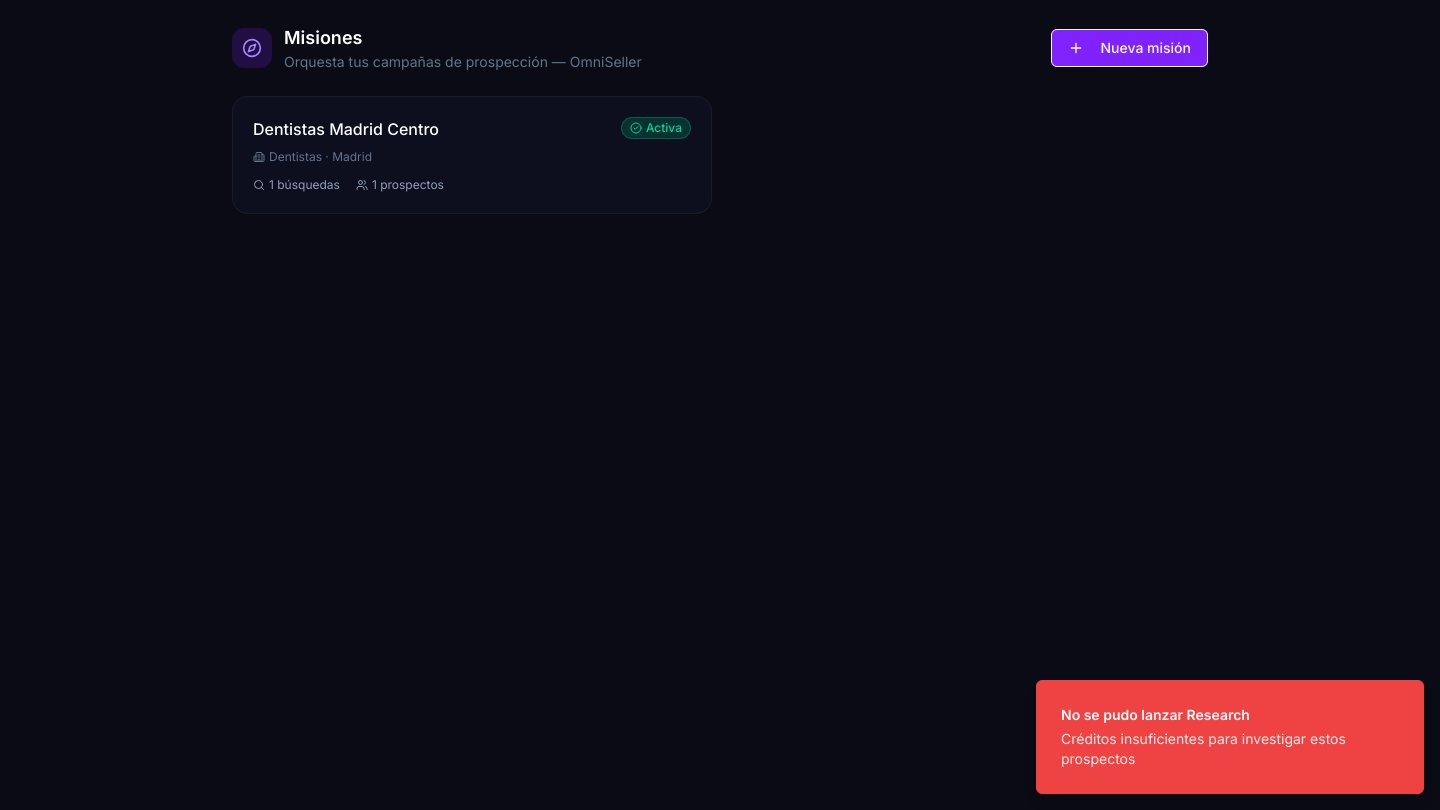
Test case: Contact Finder › 10. ejecuta la búsqueda y muestra los contactos encontrados
Click the text "Dentistas Madrid Centro" at (346, 129), box [253,117,439,141]
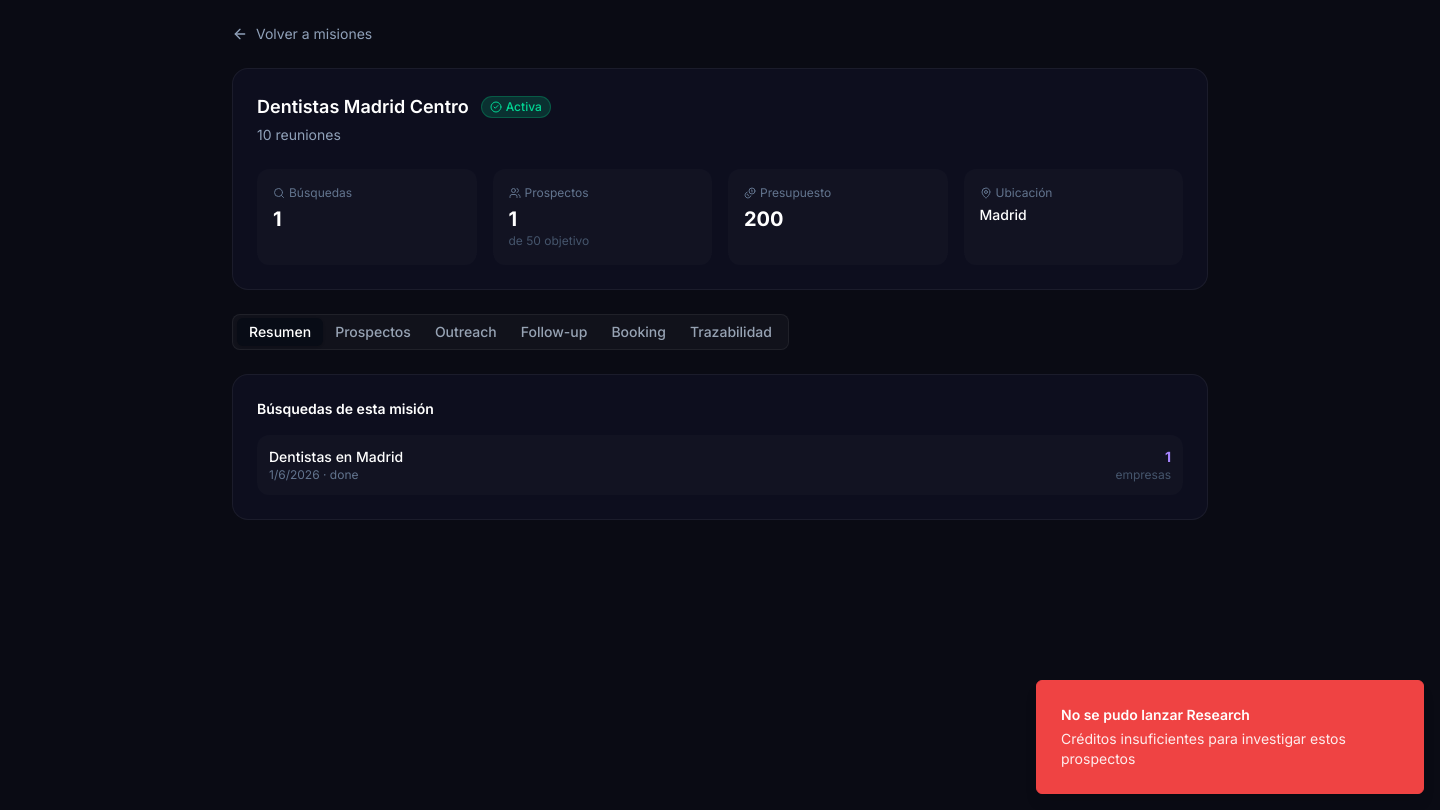
Check: the heading "Búsquedas de esta misión" is shown, box [257,400,434,417]
Press the mouse on the tab with test id "tab-prospectos" at (373, 332), box [323,318,423,346]
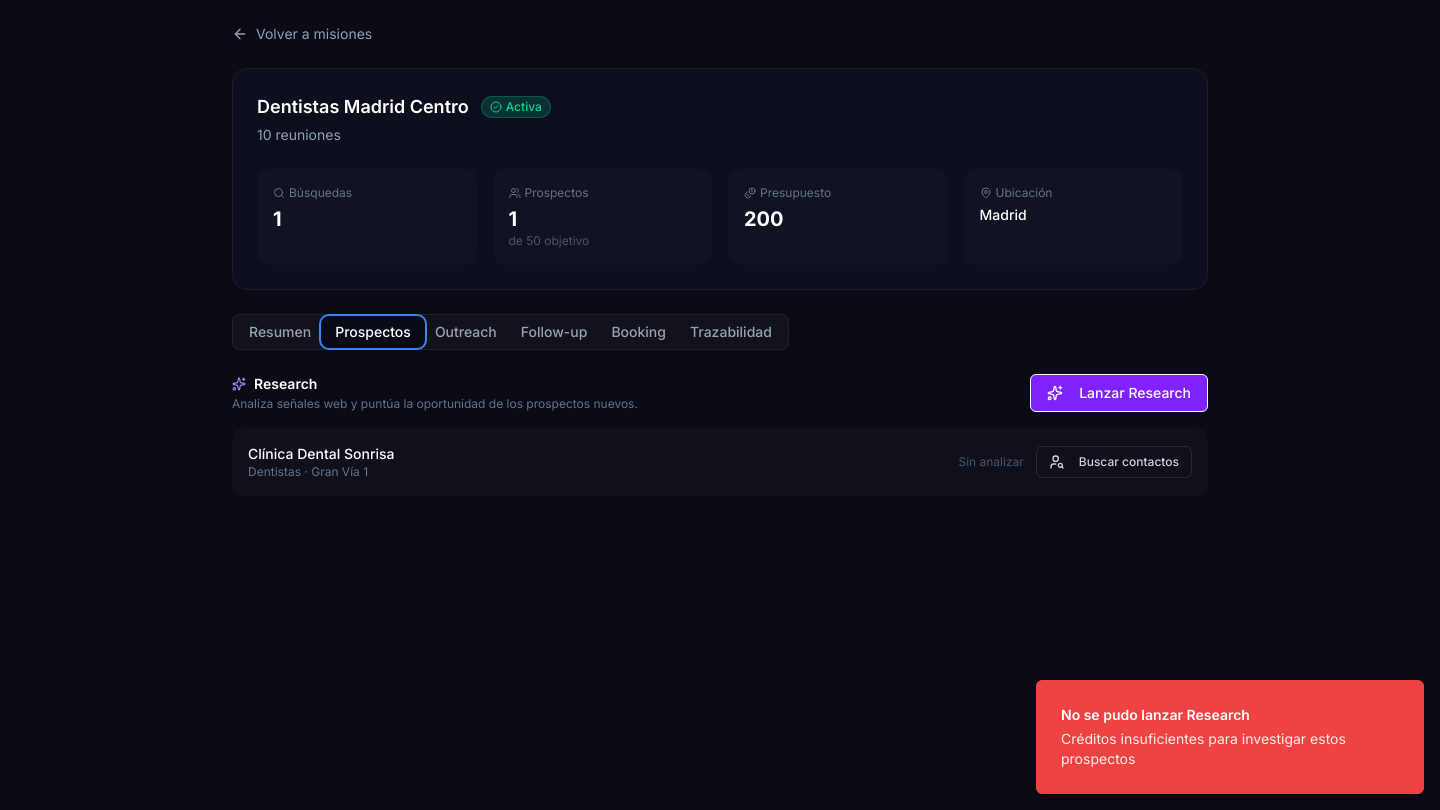
Check: the text "Clínica Dental Sonrisa" is shown, box [248,444,394,464]
Click the button with test id "find-contacts-100" at (1114, 462), box [1036,446,1192,478]
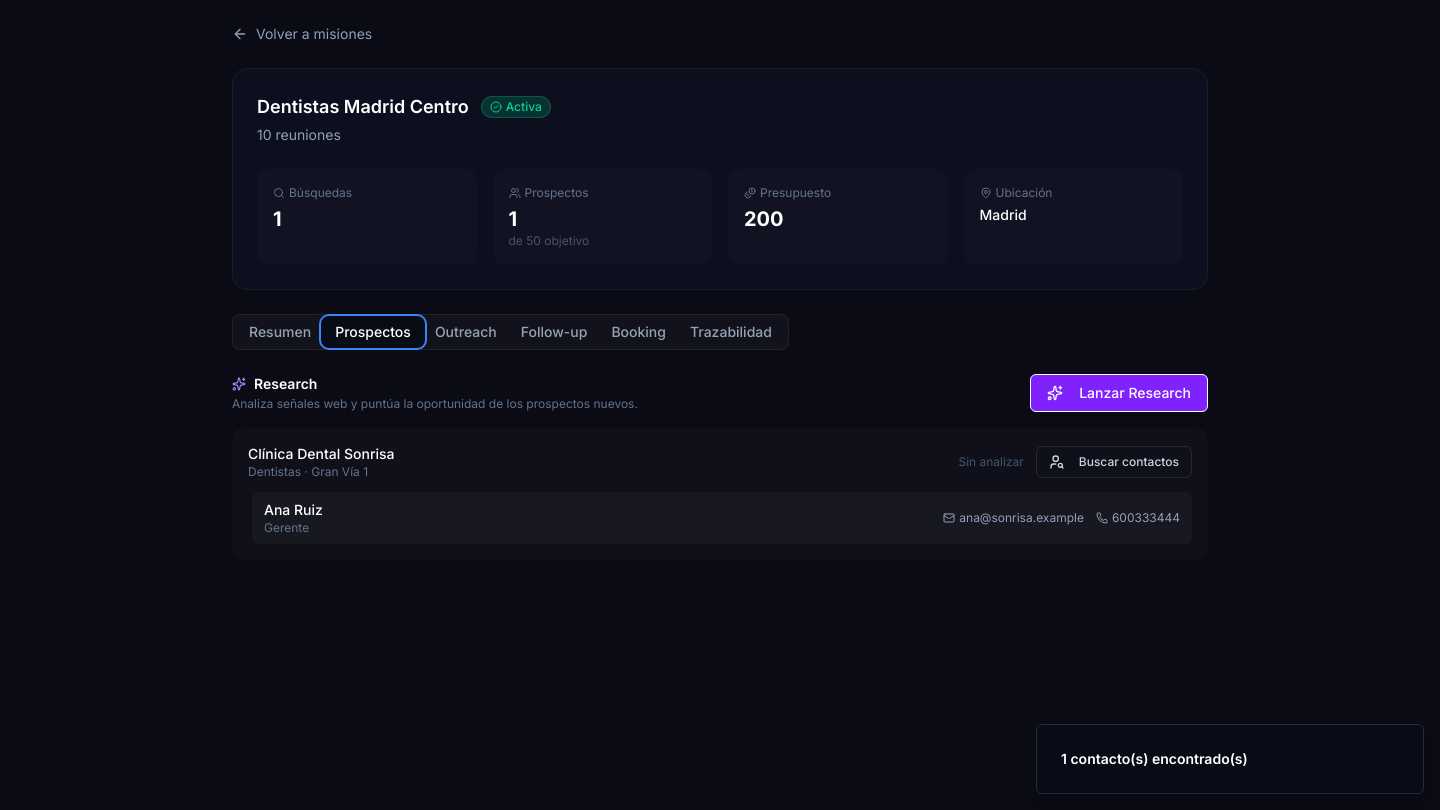
Check: the text "Ana Ruiz" is shown, box [264,500,323,520]
Check: the text "ana@sonrisa.example" is shown, box [943,510,1084,526]
